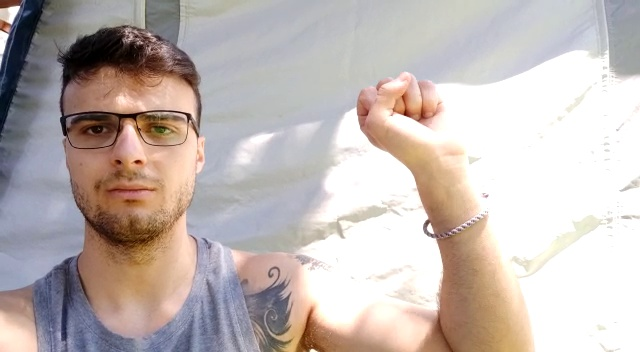Fist: (355, 70, 459, 163)
